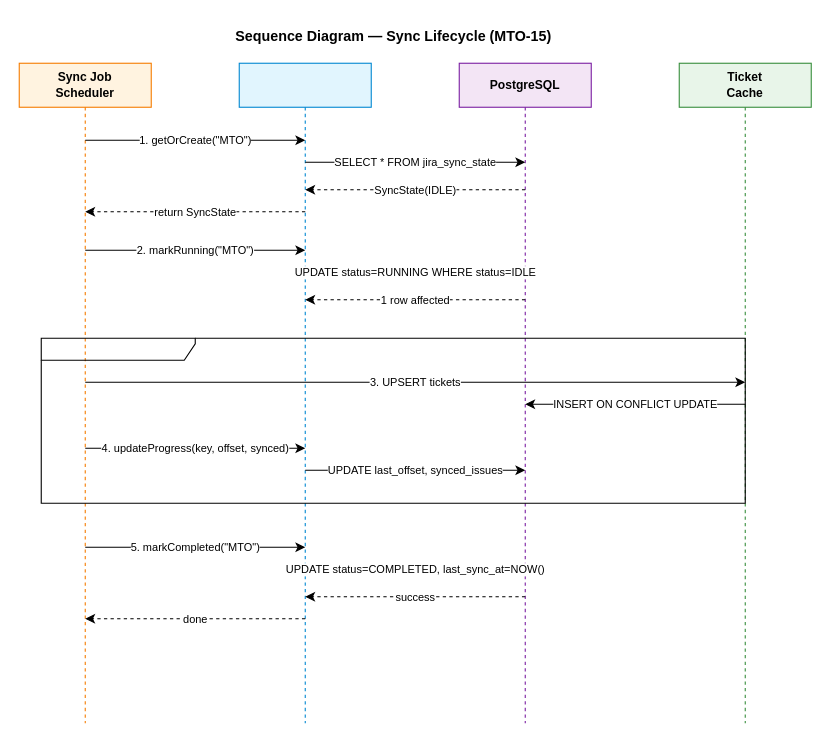
Some shapes in this 831 by 743 pixel diagram are drawn without their labels. The box of each missing label's shape, as (x1, y1, x2, y2) in pixels:
loop [for each batch]: (40, 337, 745, 503)
SyncState Manager: (238, 62, 371, 723)
